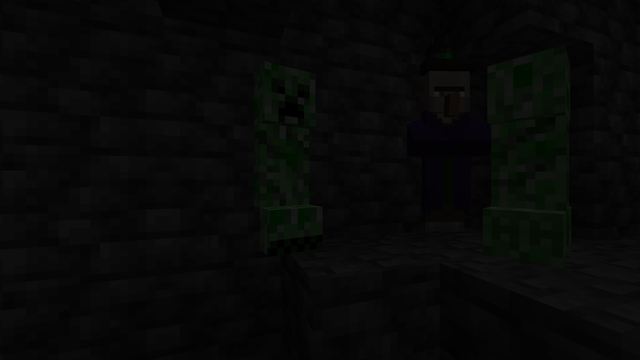creepers: (472, 32, 593, 264), (246, 50, 319, 254)
sorcieres: (420, 58, 459, 235)
